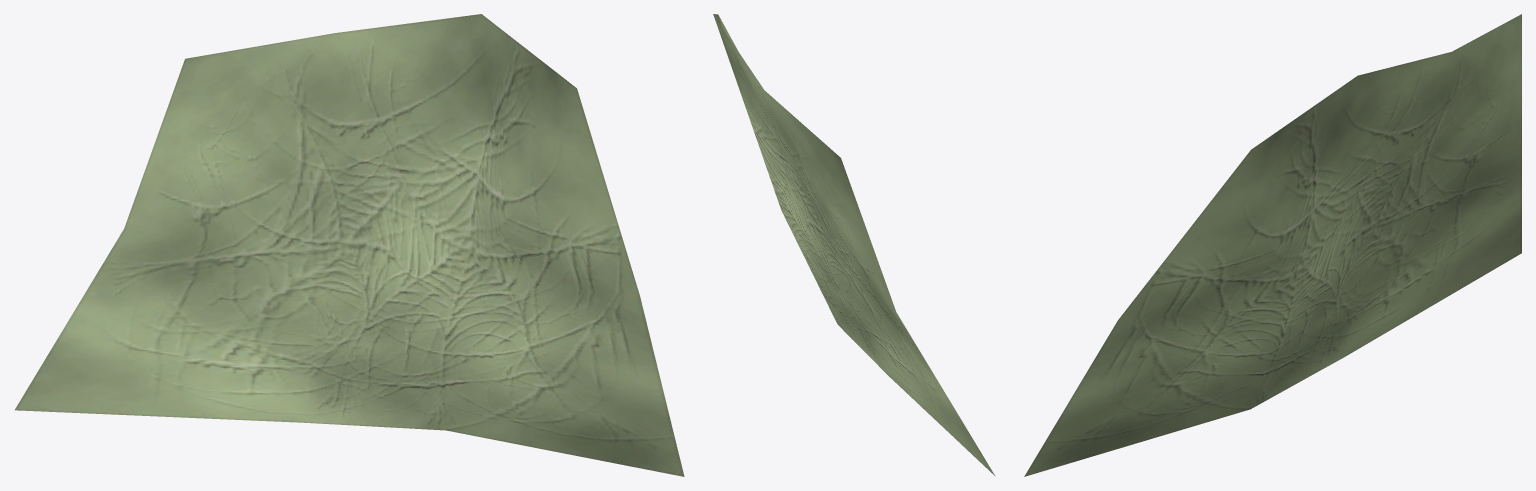
The model's file is cobweb2.fbx.
3 views of the same model, side by side, from view 1: azimuth 30°, elevation 25°; view 2: azimuth 150°, elevation 25°; view 3: azimuth 270°, elevation 25° (orthographic). The views are drawn at different scales.
Parts seen in each view (by area): view 1: cobweb2; view 2: cobweb2; view 3: cobweb2.
Boxes of the visible parts, x1,y1,x2,y2 form: cobweb2: (15, 14, 684, 476); cobweb2: (713, 14, 995, 476); cobweb2: (1024, 14, 1521, 476).
Size of the model in its own units: 2.39 by 1.88 by 2.24.
